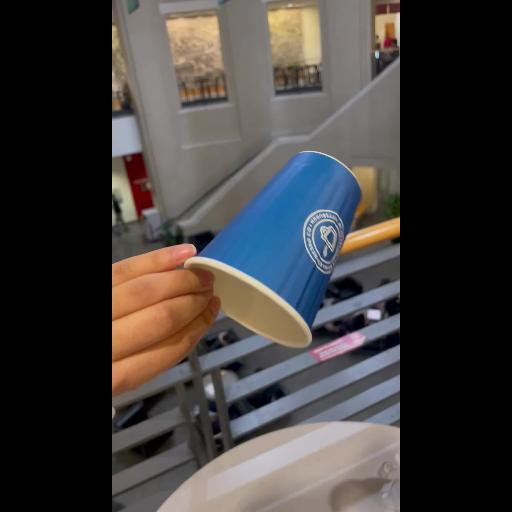lp_paper_cup: (180, 144, 364, 350)
